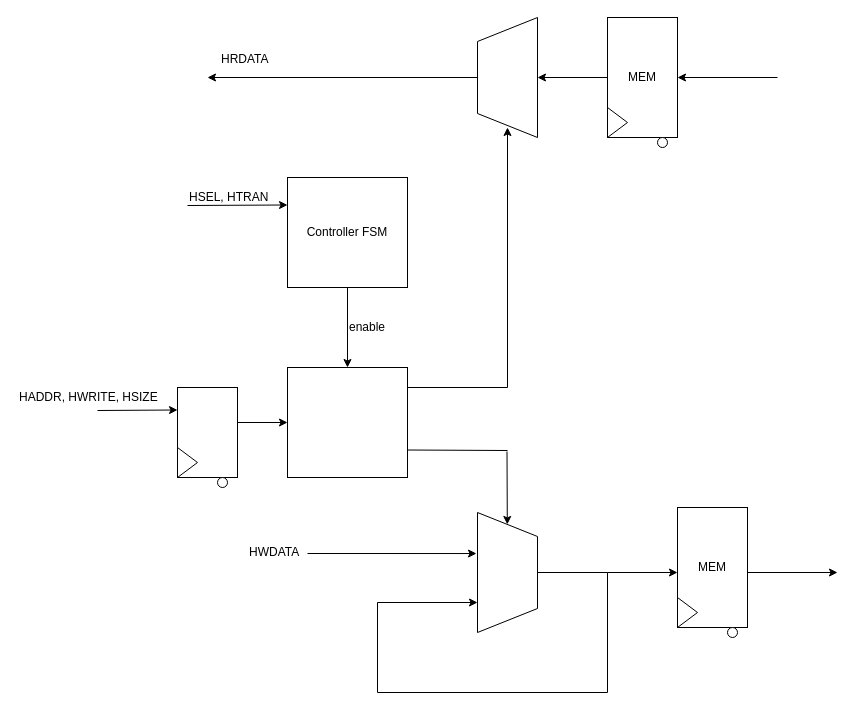
The diagram is 863 pixels wide and 711 high, and some of its shapes have lost their labels. The box of each missing label's shape, as (x1, y1, x2, y2) in pixels:
Address Mapping: (286, 366, 408, 478)
reg: (176, 386, 238, 478)
